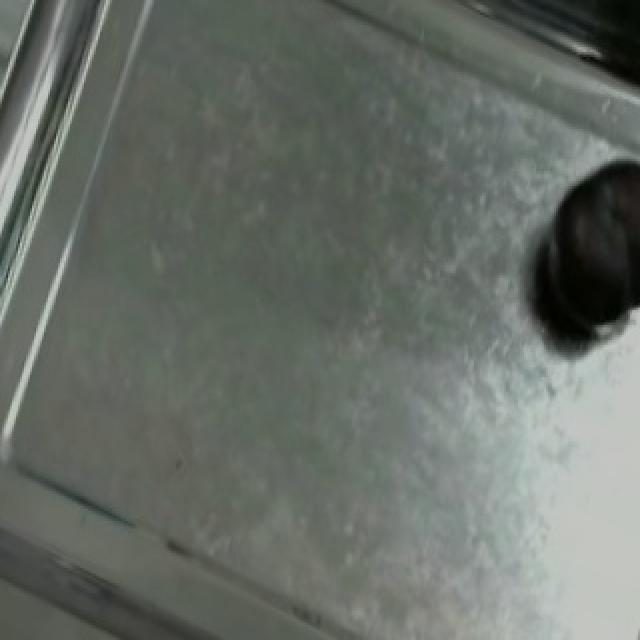Fruit: (522, 142, 640, 358)
